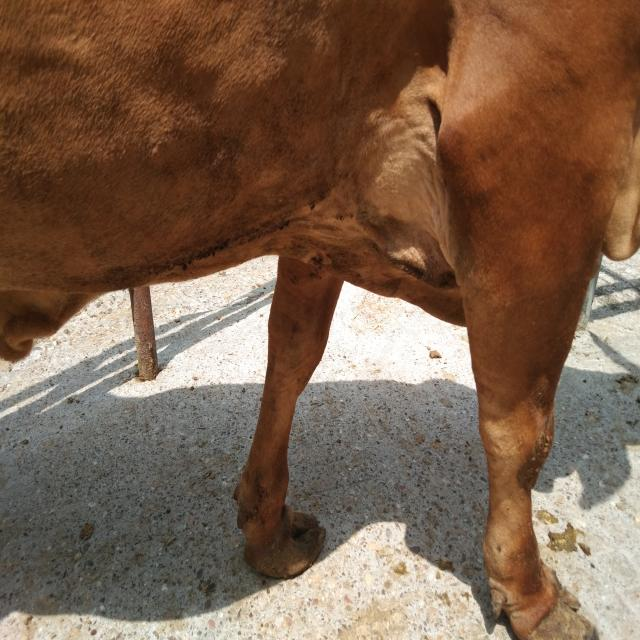Hoof: (242, 503, 326, 579), (486, 560, 559, 639)
